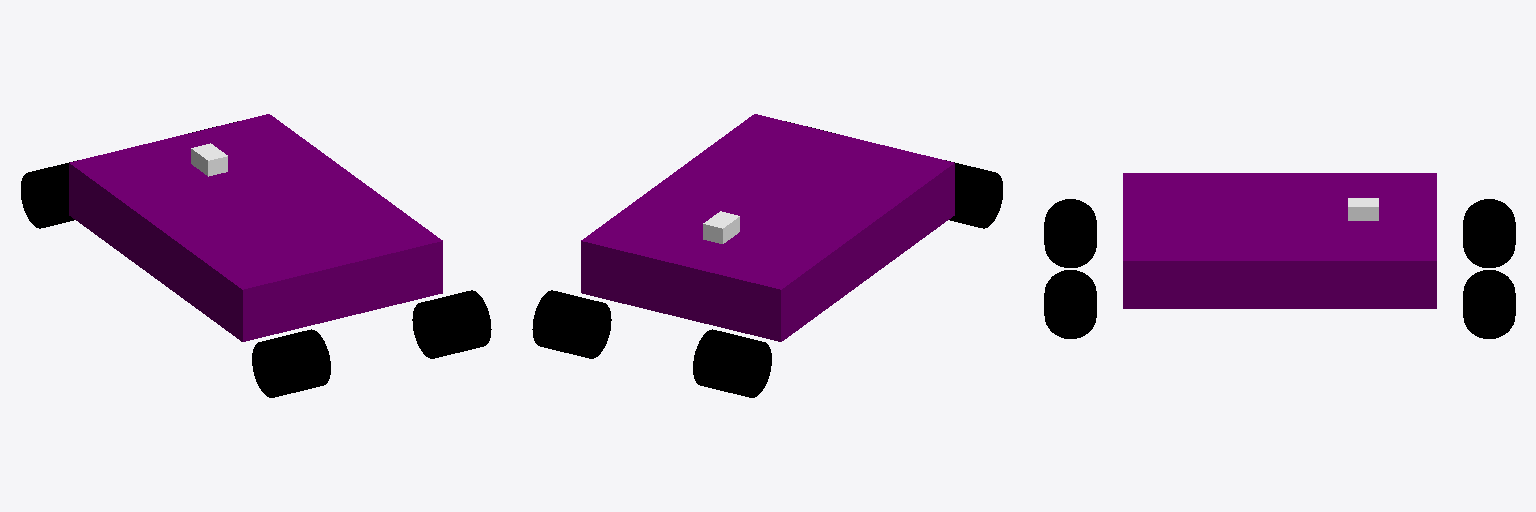
URDF robot description (project_robot):
<?xml version="1.0"?>
 <robot name="project_robot">
  <link name="basic_map">
    <visual>
      <geometry>
        <box size="0.30 .20 .05"/>
    </geometry>
    <origin rpy="0 0 1.57075" xyz="0 0 0"/>
    <material name="purple">
        <color rgba=".5 0 .5 1"/>
    </material>
    </visual>
 </link>

 <link name="right_front_wheel">
    <visual>
      <geometry>
        <cylinder length=".05" radius="0.025"/>
      </geometry>
      <material name="black">
        <color rgba="0 0 0 1"/>
      </material>
    </visual>
  </link>
	
 <joint name="right_front_wheel_joint" type="continuous">
    <axis xyz="0 0 1"/>
    <parent link="basic_map"/>
    <child link="right_front_wheel"/>
    <origin rpy="0 1.57075 0" xyz="0.08 0.2 -0.03"/>
    <limit effort="100" velocity="100"/>
    <joint_properties damping="0.0" friction="0.0"/>
  </joint>

 <link name="right_back_wheel">
    <visual>
      <geometry>
        <cylinder length=".05" radius="0.025"/>
      </geometry>
      <material name="black">
        <color rgba="0 0 0 1"/>
      </material>
    </visual>
  </link>

<joint name="right_back_wheel_joint" type="continuous">
    <axis xyz="0 0 1"/>
    <parent link="basic_map"/>
    <child link="right_back_wheel"/>
    <origin rpy="0 1.57075 0" xyz="0.08 -0.2 -0.03"/>
    <limit effort="100" velocity="100"/>
    <joint_properties damping="0.0" friction="0.0"/>
 </joint>

 <link name="left_front_wheel">
    <visual>
      <geometry>
        <cylinder length=".05" radius="0.025"/>
      </geometry>
      <material name="black">
        <color rgba="0 0 0 1"/>
      </material>
    </visual>
  </link>
<joint name="left_front_wheel_joint" type="continuous">
    <axis xyz="0 0 1"/>
    <parent link="basic_map"/>
    <child link="left_front_wheel"/>
    <origin rpy="0 1.57075 0" xyz="-0.08 0.2 -0.03"/>
    <limit effort="100" velocity="100"/>
    <joint_properties damping="0.0" friction="0.0"/>
  </joint>

  <link name="left_back_wheel">
    <visual>
      <geometry>
        <cylinder length=".05" radius="0.025"/>
      </geometry>
      <material name="black">
        <color rgba="0 0 0 1"/>
      </material>
    </visual>
  </link>
<joint name="left_back_wheel_joint" type="continuous">
    <axis xyz="0 0 1"/>
    <parent link="basic_map"/>
    <child link="left_back_wheel"/>
    <origin rpy="0 1.57075 0" xyz="-0.08 -0.2 -0.03"/>
    <limit effort="100" velocity="100"/>
    <joint_properties damping="0.0" friction="0.0"/>
  </joint>

 <link name="head">
    <visual>
      <geometry>
        <box size=".02 .03 .03"/>
      </geometry>
      <material name="white">
          <color rgba="1 1 1 1"/>
      </material>
    </visual>
  </link>
 <joint name="tobox" type="fixed">
    <parent link="basic_map"/>
    <child link="head"/>
    <origin xyz="0 0.08 0.025"/>
  </joint>
</robot>

--- Render facts (derived) ---
The picture shows the robot from 3 angles, left to right: view 1: azimuth 30°, elevation 25°; view 2: azimuth 150°, elevation 25°; view 3: azimuth 270°, elevation 25°; orthographic projection.
Robot: project_robot — 6 links, 5 joints (4 continuous, 1 fixed); root link basic_map; default pose: all joints at 0.
Visible links, largest first — view 1: basic_map, left_back_wheel, right_back_wheel, left_front_wheel, head; view 2: basic_map, left_front_wheel, right_front_wheel, left_back_wheel, head; view 3: basic_map, right_front_wheel, right_back_wheel, left_front_wheel, left_back_wheel, head.
Boxes of the visible links, box(x1,y1,x2,y2) form: basic_map: box(69, 114, 442, 341); left_back_wheel: box(252, 329, 330, 397); right_back_wheel: box(412, 290, 491, 358); left_front_wheel: box(21, 160, 77, 228); head: box(191, 143, 227, 176); basic_map: box(581, 114, 954, 341); left_front_wheel: box(693, 329, 771, 397); right_front_wheel: box(532, 290, 611, 358); left_back_wheel: box(946, 160, 1002, 228); head: box(703, 211, 739, 243); basic_map: box(1123, 173, 1436, 308); right_front_wheel: box(1463, 270, 1515, 338); right_back_wheel: box(1044, 270, 1096, 338); left_front_wheel: box(1463, 199, 1515, 267); left_back_wheel: box(1044, 199, 1096, 267); head: box(1348, 198, 1378, 220).
Bounding box of the posed robot: 0.21 × 0.45 × 0.095 m (x, y, z).
Geometry: primitives only (box / cylinder / sphere), no mesh files.